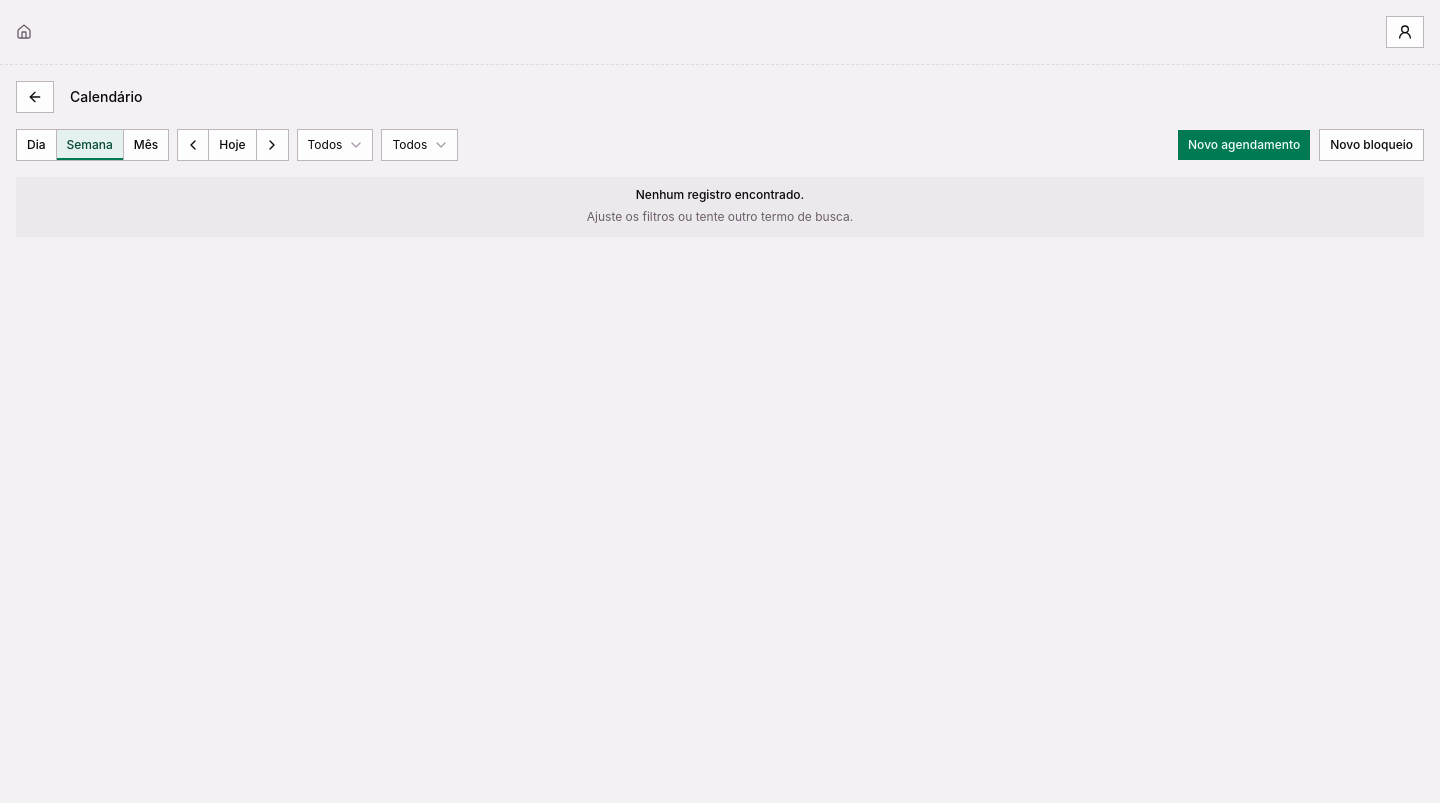
Test: CalendarIndexPage (T39, spec.md SCH-29 — visões de dia/semana/mês) › clicking "Novo agendamento" opens the AppointmentPanel INLINE (not a dialog) between the toolbar and the grid
The width and height of the screenshot is (1440, 803).
What coordinates should you click on to do the following:
click the button "Novo agendamento"
I would click on:
 (1244, 145)
Its box is x1=1177 y1=129 x2=1311 y2=161.
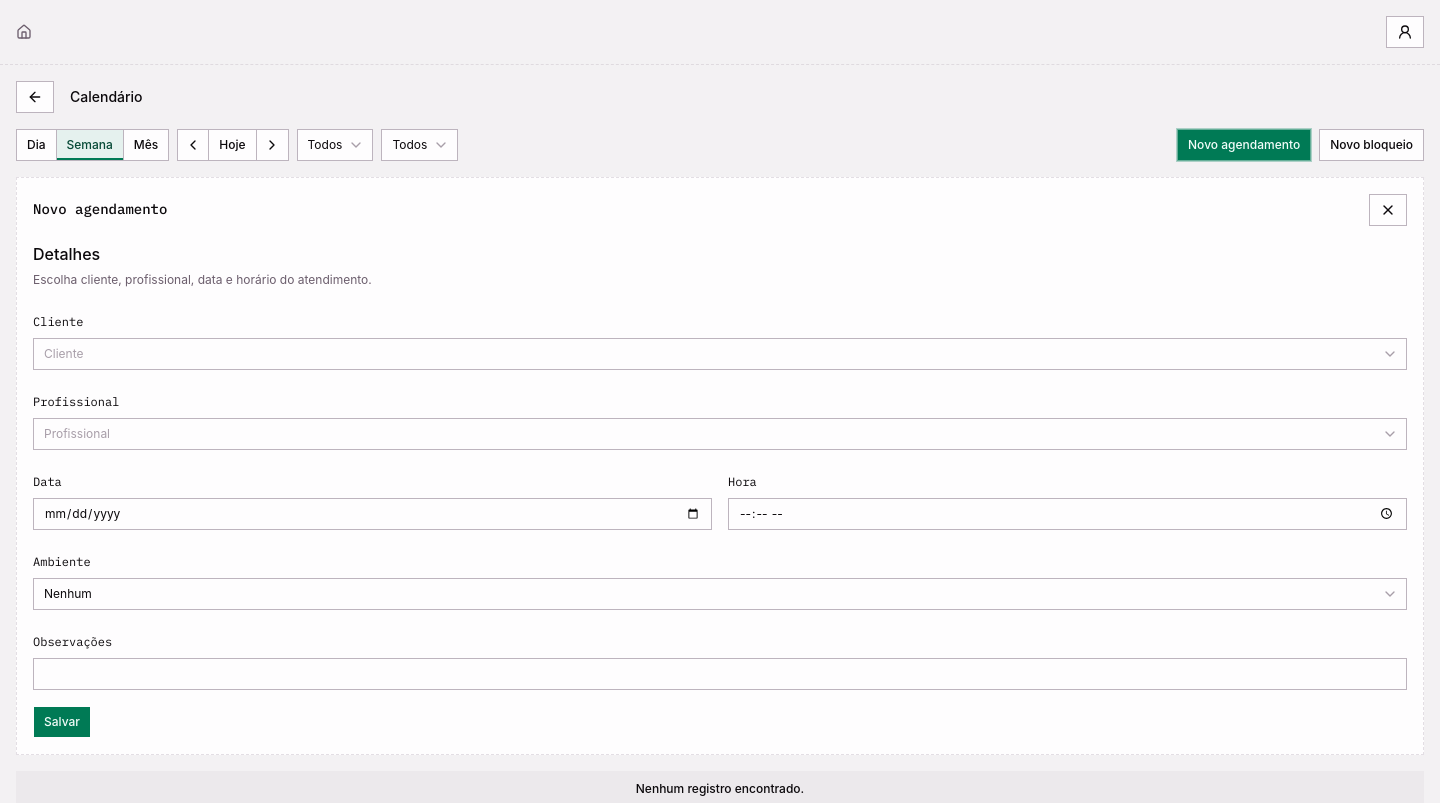
Now the heading "Novo agendamento" is shown, box x1=33 y1=200 x2=167 y2=220
